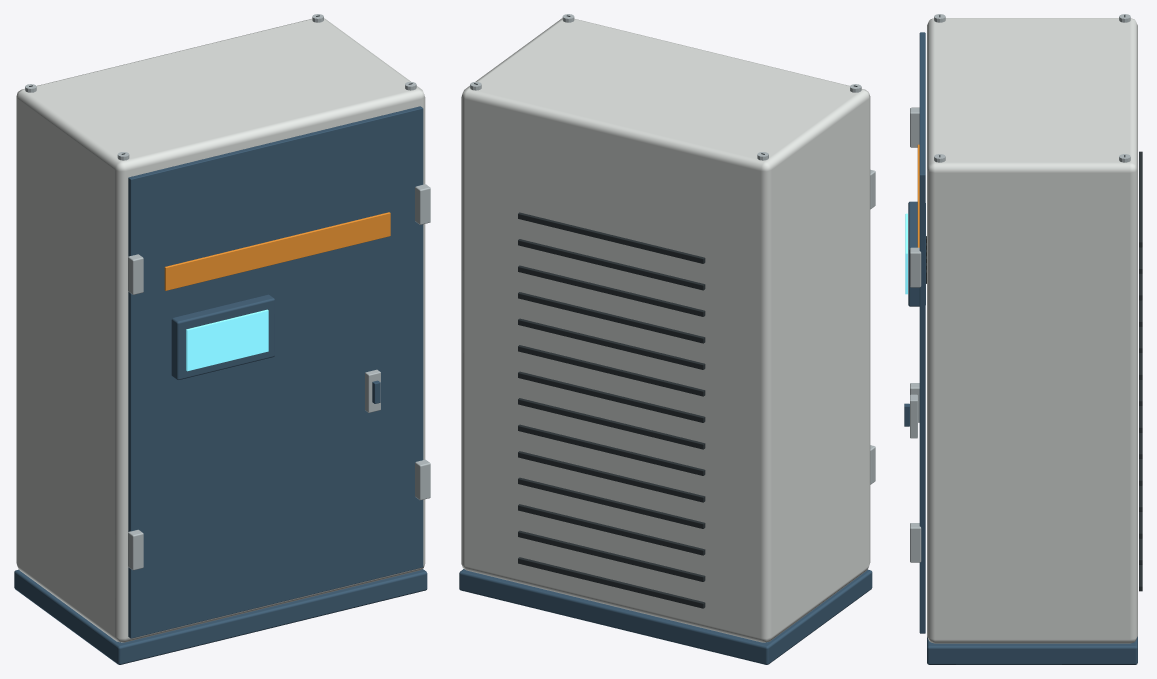
The model's file is container-inspection-and-customs-yard-container-inspec-e32b881b__29318.glb.
The picture shows the model from 3 angles, left to right: view 1: azimuth 30°, elevation 25°; view 2: azimuth 150°, elevation 25°; view 3: azimuth 270°, elevation 25°; orthographic projection.
Parts seen in each view (by area): view 1: container-inspection-and-customs-yard-quarantine-cabinet; view 2: container-inspection-and-customs-yard-quarantine-cabinet; view 3: container-inspection-and-customs-yard-quarantine-cabinet.
Boxes of the visible parts, bbox=[...] form: container-inspection-and-customs-yard-quarantine-cabinet: bbox=[14, 14, 430, 664]; container-inspection-and-customs-yard-quarantine-cabinet: bbox=[459, 14, 875, 664]; container-inspection-and-customs-yard-quarantine-cabinet: bbox=[904, 14, 1142, 664].
Size of the model in its own units: 1.1 by 1.72 by 0.7349.
